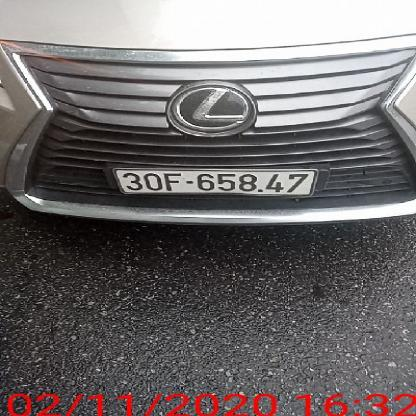biensoxe: (114, 164, 320, 201)
